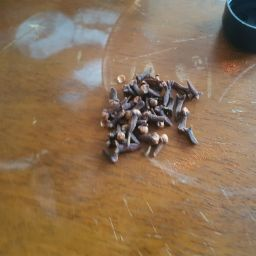Cloves: (94, 63, 206, 166)
